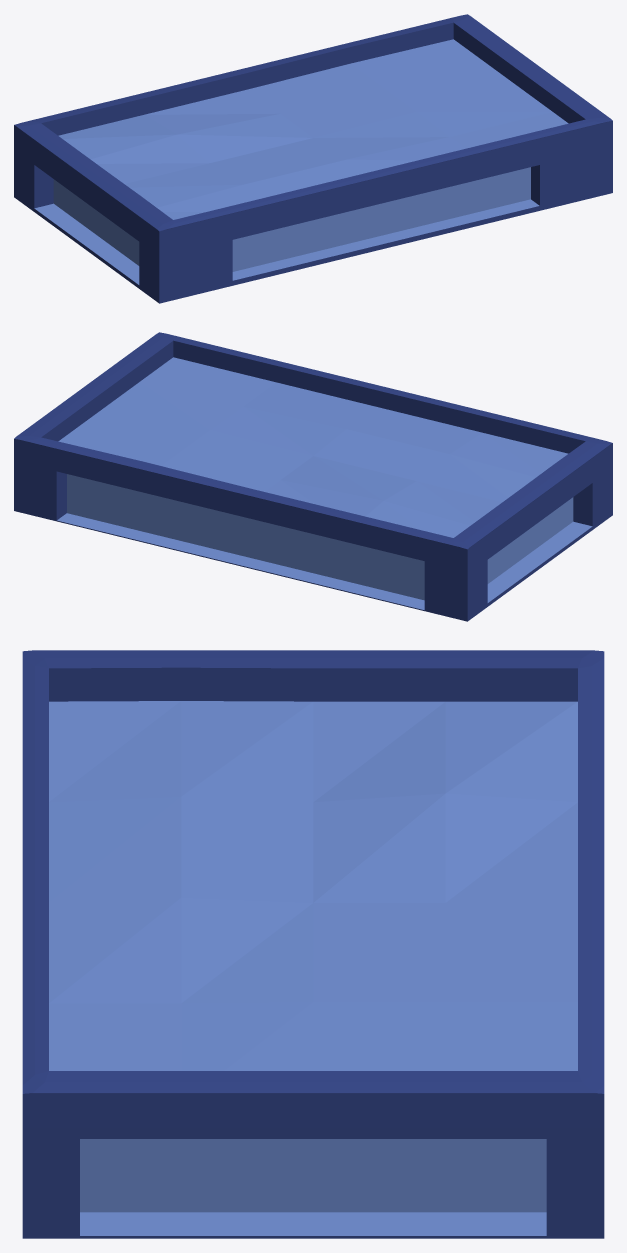
The model's file is Combine Plane.fbx.
3 renders of one model, top to bottom at view 1: azimuth 30°, elevation 25°; view 2: azimuth 150°, elevation 25°; view 3: azimuth 270°, elevation 25°, orthographic. The views are drawn at different scales.
Parts seen in each view (by area): view 1: Combine Plane; view 2: Combine Plane; view 3: Combine Plane.
Boxes of the visible parts, x1,y1,x2,y2 form: Combine Plane: [14, 14, 612, 303]; Combine Plane: [14, 332, 612, 621]; Combine Plane: [22, 650, 604, 1238].
Bounding box in the file's own units: 1596 × 251 × 886.
